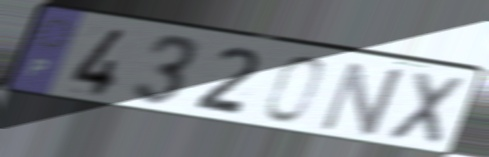0: (260, 53, 331, 127)
2: (189, 46, 262, 118)
3: (130, 32, 201, 109)
4: (66, 25, 126, 100)
N: (314, 58, 409, 139)
X: (380, 68, 472, 151)
